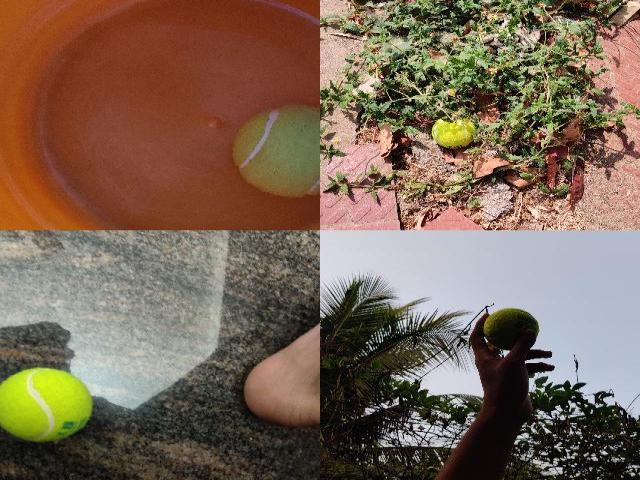tennis-ball: (231, 104, 319, 198), (0, 366, 94, 442), (482, 307, 540, 350), (432, 123, 472, 148)
